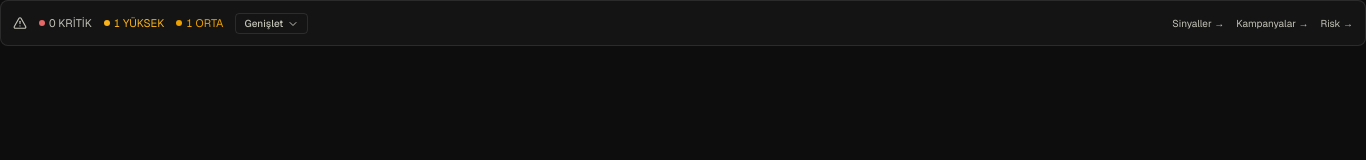
Test: AlertCenter › ignores the five streams that are drawn elsewhere on the page
Click the button "Genişlet": (272, 23) [236,12,308,34]
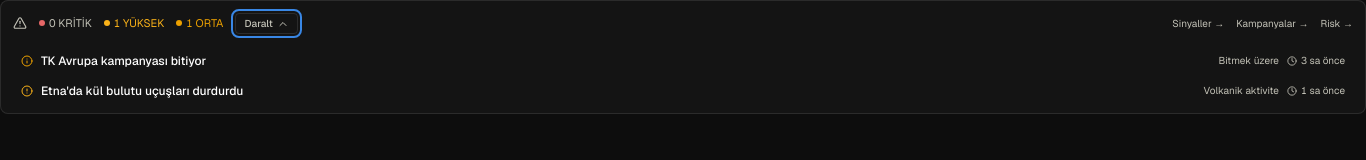
Check: the text "TK Avrupa kampanyası bitiyor" is shown, box [41,53,206,69]
Check: the text "Etna'da kül bulutu uçuşları durdurdu" is shown, box [41,83,243,99]
